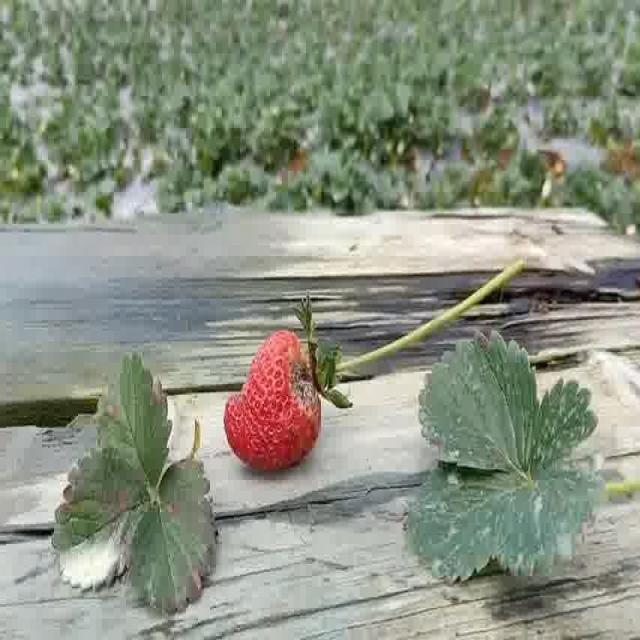Mancha negra Antracnosis: (224, 324, 329, 488)
